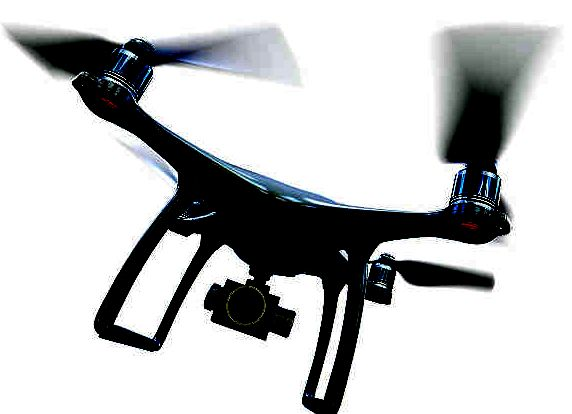Drone: (3, 20, 525, 414)
